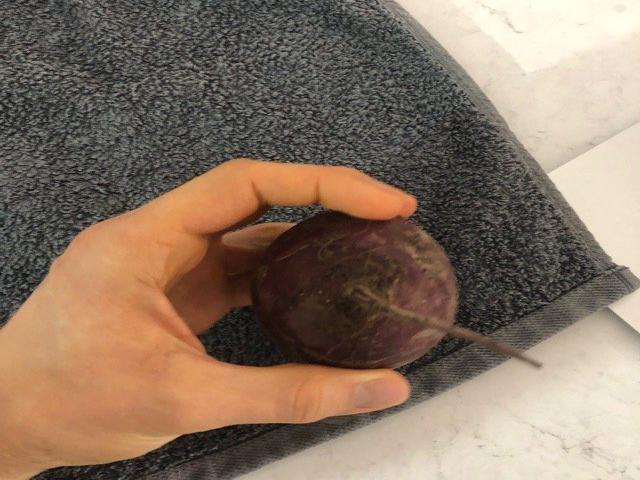beet: (252, 211, 543, 370)
